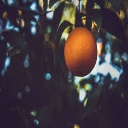orange: (63, 24, 99, 77)
